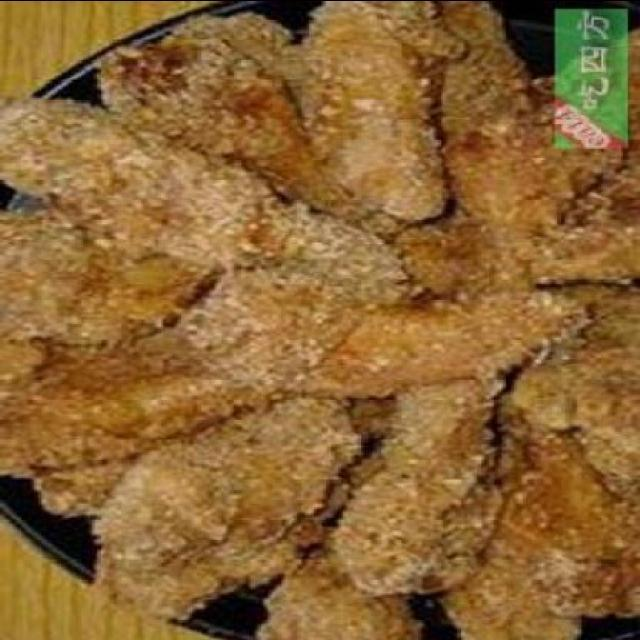Deep fried chicken wing: (14, 44, 574, 600)
